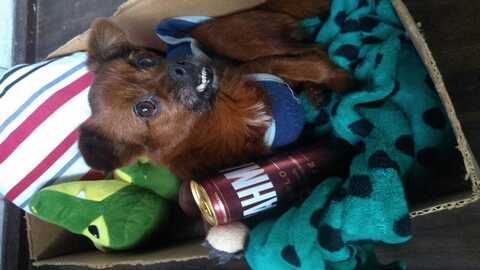duplo_malte: (192, 150, 331, 220)
